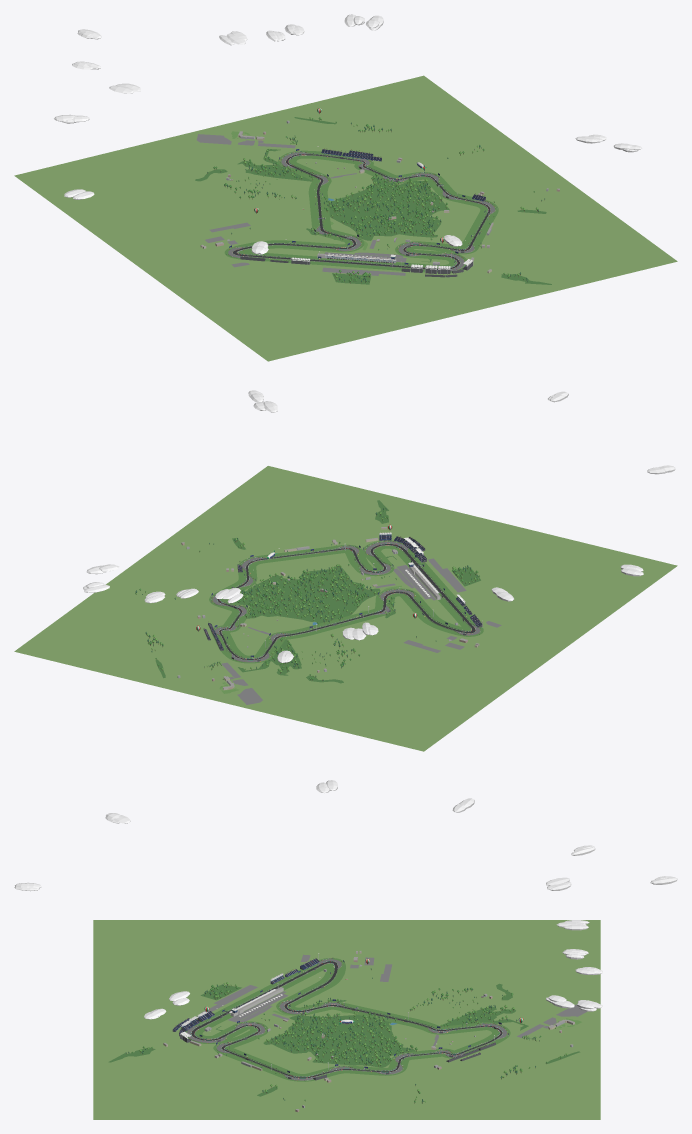
File: hungaroring.glb
3 renders of one model, top to bottom at view 1: azimuth 30°, elevation 25°; view 2: azimuth 150°, elevation 25°; view 3: azimuth 270°, elevation 25°, orthographic.
Parts seen in each view (by area): view 1: SueloBase, Pasto, Bosques, Arboles, Nubes, Estacionamientos, Asfalto, MurosContencion, Escapatorias, Edificios; view 2: SueloBase, Pasto, Bosques, Arboles, Nubes, Estacionamientos, Asfalto, MurosContencion, Escapatorias, Edificios; view 3: SueloBase, Pasto, Bosques, Arboles, Nubes, Estacionamientos, Asfalto, MurosContencion, Escapatorias, Edificios.
Boxes of the visible parts, <box> form: SueloBase: <box>14,75,677,361</box>; Pasto: <box>224,150,498,273</box>; Bosques: <box>195,117,551,284</box>; Arboles: <box>207,117,544,283</box>; Nubes: <box>54,14,641,254</box>; Estacionamientos: <box>196,134,406,275</box>; Asfalto: <box>232,154,490,269</box>; MurosContencion: <box>228,151,495,271</box>; Escapatorias: <box>228,152,495,270</box>; Edificios: <box>200,120,559,273</box>; SueloBase: <box>14,466,677,751</box>; Pasto: <box>209,540,483,663</box>; Bosques: <box>155,500,480,683</box>; Arboles: <box>135,508,479,680</box>; Nubes: <box>83,390,675,662</box>; Estacionamientos: <box>221,558,501,704</box>; Asfalto: <box>217,544,475,659</box>; MurosContencion: <box>211,541,481,662</box>; Escapatorias: <box>212,542,480,661</box>; Edificios: <box>177,527,479,689</box>; SueloBase: <box>93,920,600,1119</box>; Pasto: <box>185,958,510,1081</box>; Bosques: <box>108,983,580,1096</box>; Arboles: <box>125,968,567,1103</box>; Nubes: <box>14,780,677,1019</box>; Estacionamientos: <box>200,954,586,1045</box>; Asfalto: <box>191,961,502,1078</box>; MurosContencion: <box>188,958,507,1080</box>; Escapatorias: <box>187,959,506,1080</box>; Edificios: <box>163,951,574,1112</box>.
Size of the model in its own units: 2238 by 483 by 2605.
Materials: 49 (6 with a texture image).
